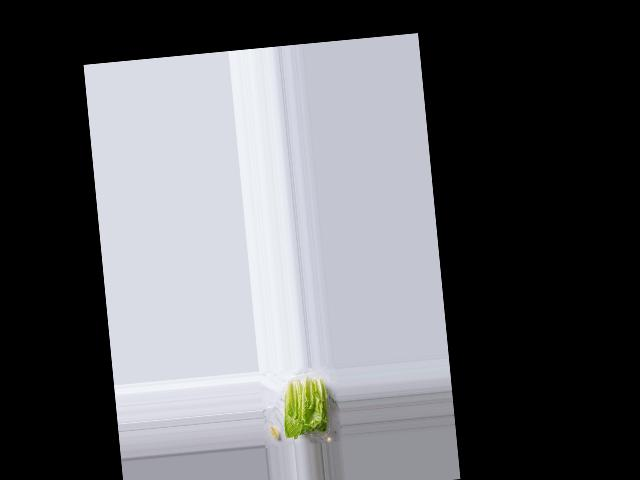lettuce: (277, 375, 332, 440)
